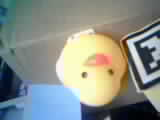duck: (56, 23, 128, 98)
